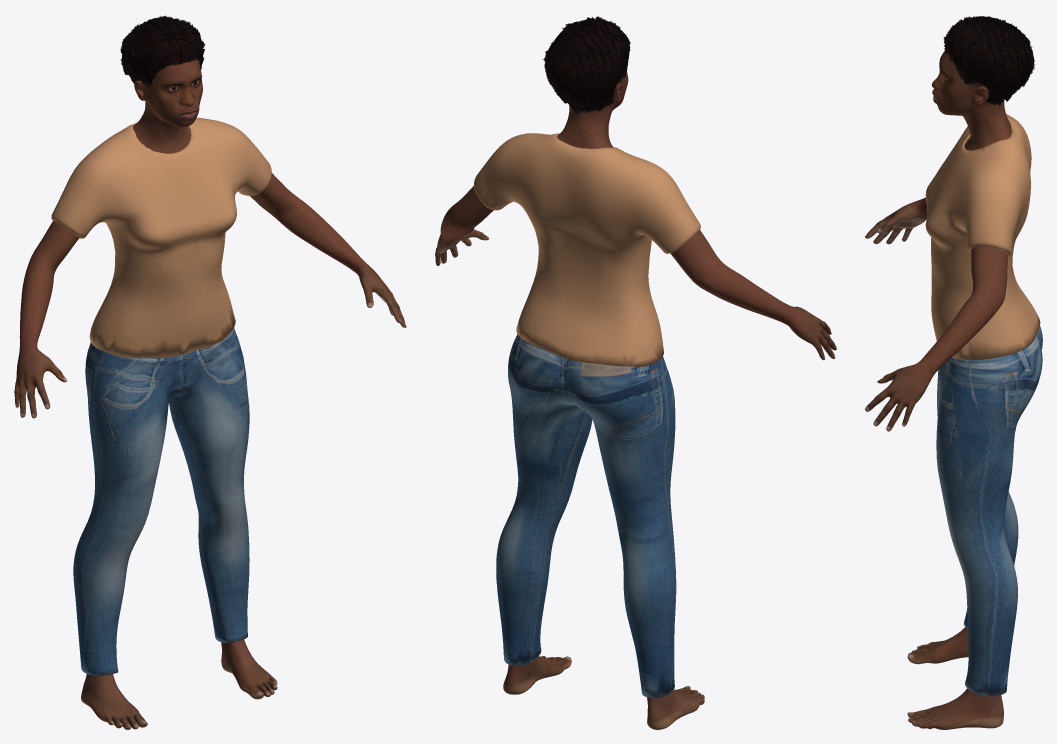
The model's file is female-dark-jeans-tshirt.glb.
3 renders of one model, left to right at view 1: azimuth 30°, elevation 25°; view 2: azimuth 150°, elevation 25°; view 3: azimuth 270°, elevation 25°, orthographic. The views are drawn at different scales.
Parts seen in each view (by area): view 1: Jeans, TShirt, Body, Hair; view 2: Jeans, TShirt, Body, Hair; view 3: Jeans, TShirt, Body, Hair.
Boxes of the visible parts, <box> form: Jeans: <box>73,328,249,675</box>; TShirt: <box>51,117,271,358</box>; Body: <box>14,59,406,729</box>; Hair: <box>120,15,205,85</box>; Jeans: <box>496,334,676,697</box>; TShirt: <box>474,133,700,366</box>; Body: <box>435,71,836,729</box>; Hair: <box>543,16,630,114</box>; Jeans: <box>936,326,1042,696</box>; TShirt: <box>925,114,1040,359</box>; Body: <box>865,50,1011,729</box>; Hair: <box>943,16,1035,105</box>.
Size of the model in its own units: 1.04 by 1.73 by 0.4138.
Materials: 8 (7 with a texture image).
